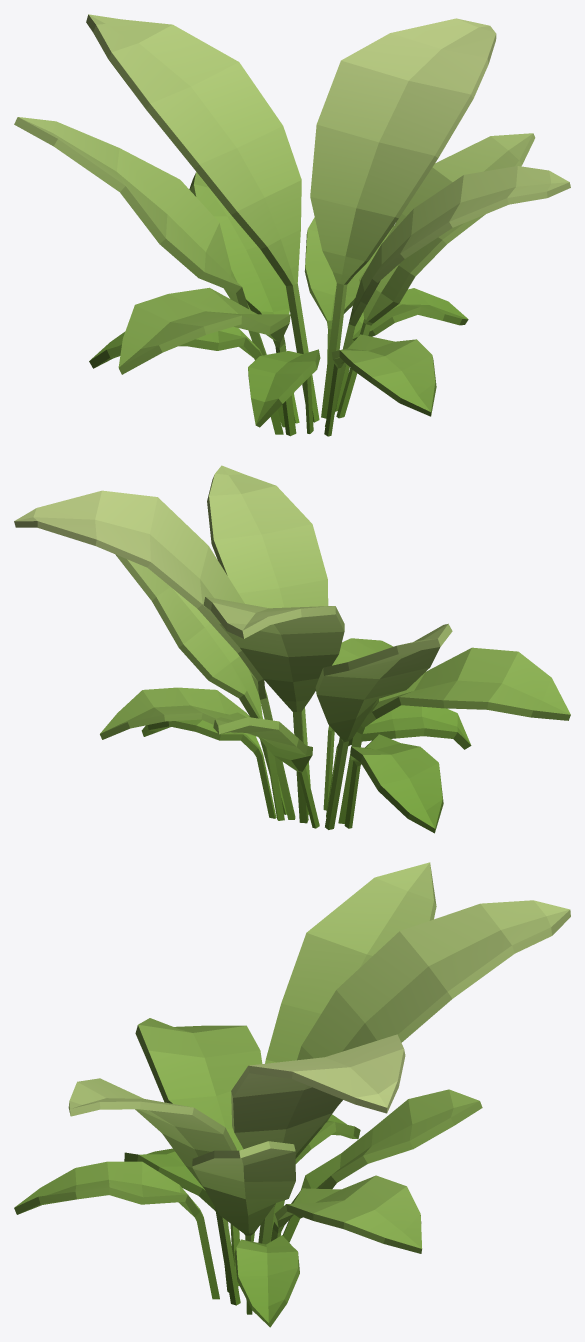
Rendered from shrub-5.glb.
3 renders of one model, top to bottom at view 1: azimuth 30°, elevation 25°; view 2: azimuth 150°, elevation 25°; view 3: azimuth 270°, elevation 25°, orthographic. The views are drawn at different scales.
Visible parts, largest first — view 1: shrub 5; view 2: shrub 5; view 3: shrub 5.
Boxes of the visible parts, left/top/right/bottom form: shrub 5: left=14, top=14, right=570, bottom=436; shrub 5: left=14, top=465, right=570, bottom=833; shrub 5: left=14, top=862, right=570, bottom=1327.
Bounding box in the file's own units: 1.08 × 0.7139 × 1.02.
Materials: 1 (1 with a texture image).
